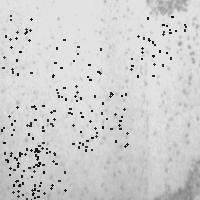pitted_surface: (5, 11, 72, 192), (88, 1, 147, 198), (161, 17, 199, 153), (52, 39, 110, 98), (68, 93, 126, 149), (130, 16, 185, 75), (0, 105, 55, 163), (5, 148, 64, 200), (0, 158, 46, 200), (156, 158, 200, 199), (0, 15, 30, 74), (144, 1, 190, 20)
